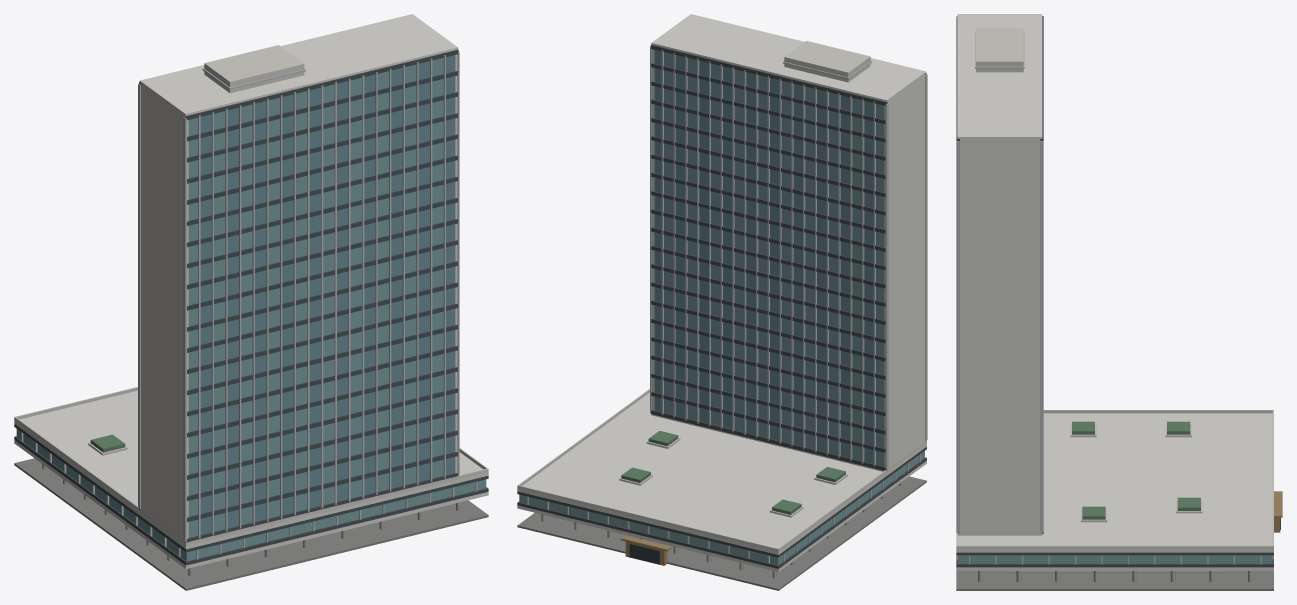
File: lever.glb
3 views of the same model, side by side, from view 1: azimuth 30°, elevation 25°; view 2: azimuth 150°, elevation 25°; view 3: azimuth 270°, elevation 25° (orthographic). The views are drawn at different scales.
Visible parts, largest first — view 1: lever; view 2: lever; view 3: lever.
Part boxes in pixels (box(x1,y1,x2,y2)): lever: box(14, 14, 488, 590); lever: box(517, 14, 927, 590); lever: box(956, 14, 1282, 590).
Size of the model in its own units: 61.15 by 94 by 61.6.
